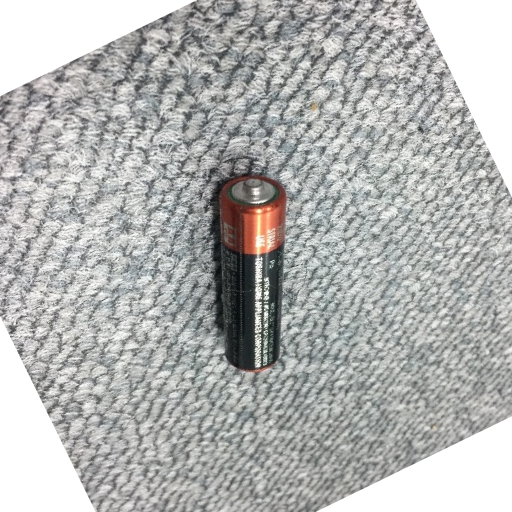Battery_0: (209, 157, 295, 384)
